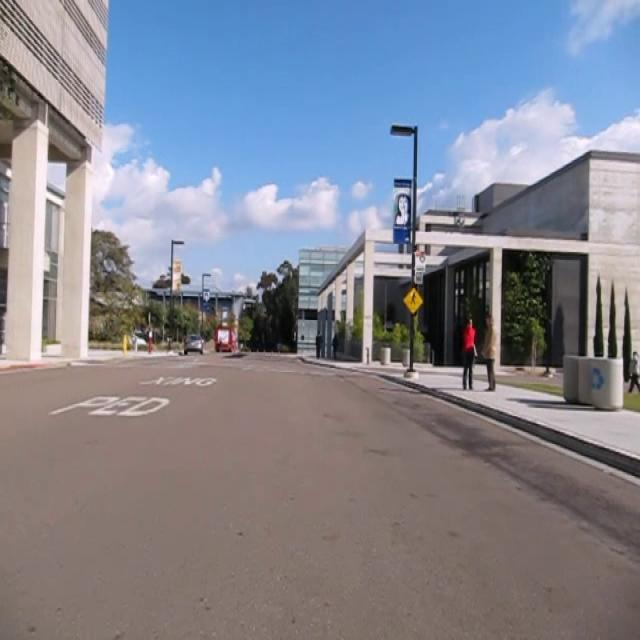pedestrianCrossing: (402, 285, 424, 315)
